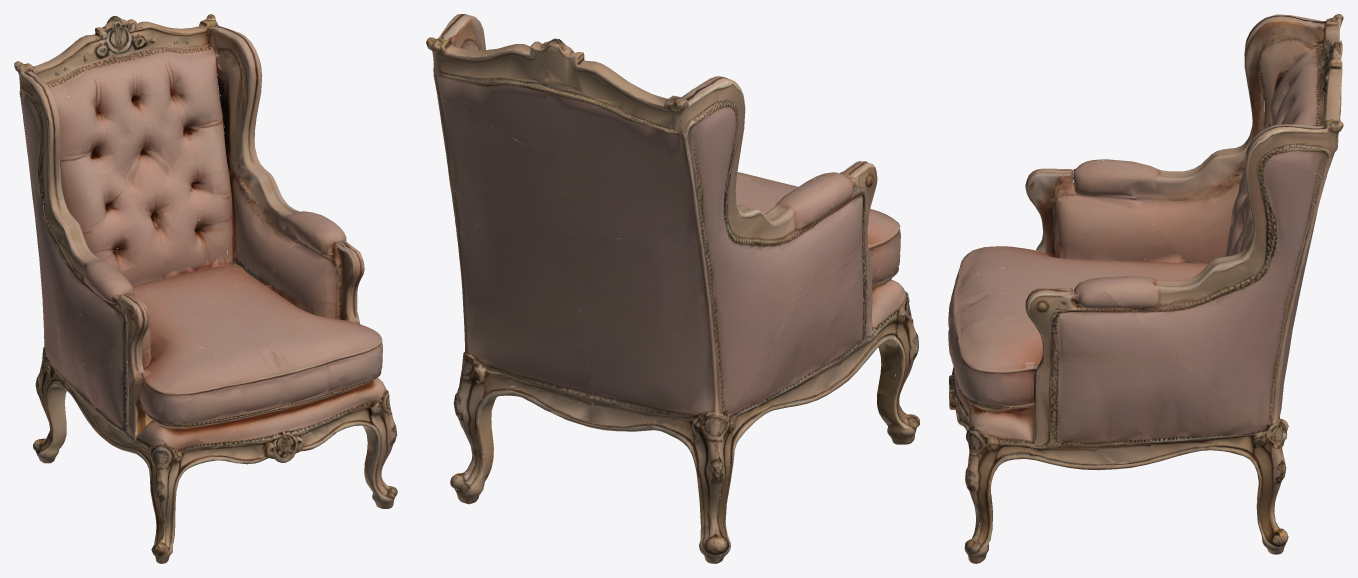
Rendered from comfy4.glb.
3 renders of one model, left to right at view 1: azimuth 30°, elevation 25°; view 2: azimuth 150°, elevation 25°; view 3: azimuth 270°, elevation 25°, orthographic. The views are drawn at different scales.
Visible parts, largest first — view 1: tripo_node_e6140afe-df27-4dcd-871d-1bc5436c14f9; view 2: tripo_node_e6140afe-df27-4dcd-871d-1bc5436c14f9; view 3: tripo_node_e6140afe-df27-4dcd-871d-1bc5436c14f9.
Boxes of the visible parts, <box> form: tripo_node_e6140afe-df27-4dcd-871d-1bc5436c14f9: <box>14,14,397,563</box>; tripo_node_e6140afe-df27-4dcd-871d-1bc5436c14f9: <box>426,14,919,563</box>; tripo_node_e6140afe-df27-4dcd-871d-1bc5436c14f9: <box>948,14,1343,563</box>.
Size of the model in its own units: 0.6312 by 0.9996 by 0.7832.
Materials: 1 (1 with a texture image).
